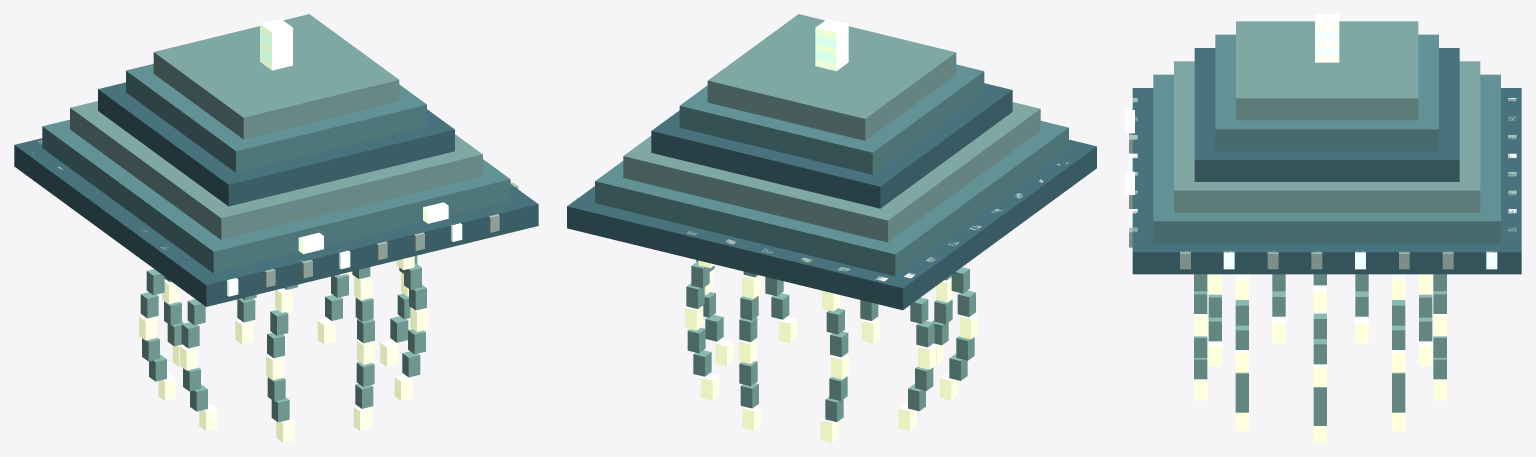
The model's file is tide-jelly.glb.
3 renders of one model, left to right at view 1: azimuth 30°, elevation 25°; view 2: azimuth 150°, elevation 25°; view 3: azimuth 270°, elevation 25°, orthographic.
Parts seen in each view (by area): view 1: Luminous_Bell, Trailing_Ribbons (×2), Bell_Edge_Pearls (×2), Bell_Crown, Eyes; view 2: Luminous_Bell, Trailing_Ribbons (×2), Bell_Crown; view 3: Luminous_Bell, Trailing_Ribbons (×2), Bell_Edge_Pearls (×2), Bell_Crown, Eyes.
Part boxes in pixels (<box>): Luminous_Bell: <box>14,14,538,306</box>; Trailing_Ribbons (×2): <box>139,255,428,442</box>; Bell_Edge_Pearls (×2): <box>33,140,518,296</box>; Bell_Crown: <box>260,19,292,70</box>; Eyes: <box>298,202,448,253</box>; Luminous_Bell: <box>567,14,1096,310</box>; Trailing_Ribbons (×2): <box>685,260,977,442</box>; Bell_Crown: <box>815,19,848,71</box>; Luminous_Bell: <box>1132,21,1521,274</box>; Trailing_Ribbons (×2): <box>1194,274,1446,442</box>; Bell_Edge_Pearls (×2): <box>1129,98,1516,269</box>; Bell_Crown: <box>1315,14,1339,62</box>; Eyes: <box>1125,110,1134,194</box>.
Bounding box in the file's own units: 1.62 × 1.66 × 1.63.
